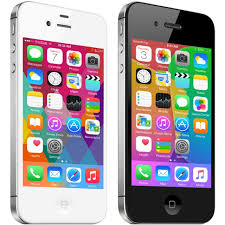iphone: (117, 1, 216, 225), (8, 1, 107, 224)
iphone4: (8, 1, 107, 225), (117, 1, 216, 225)
